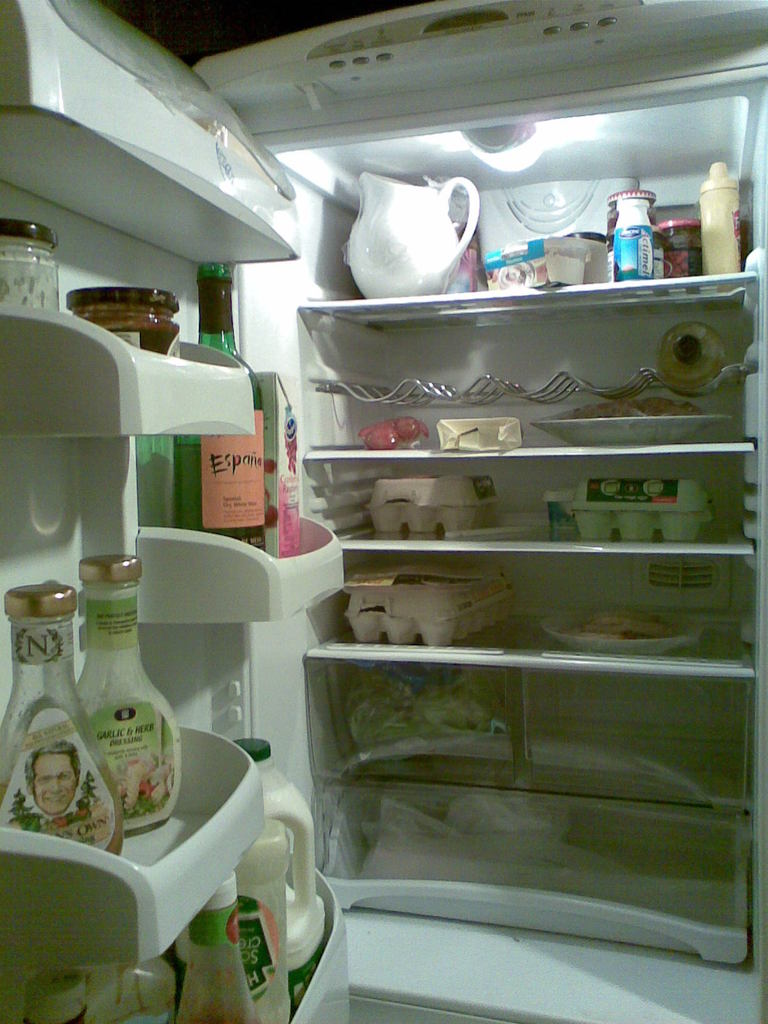refrigerator door: (34, 84, 263, 1024)
